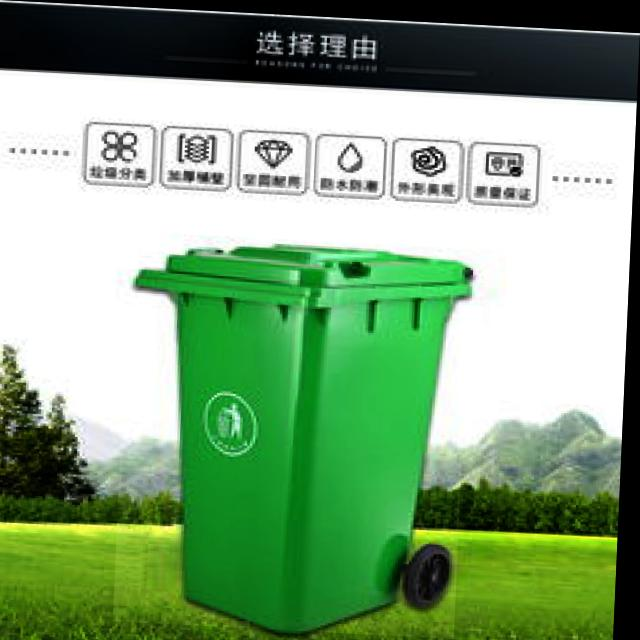garbage_bin: (118, 230, 473, 634)
